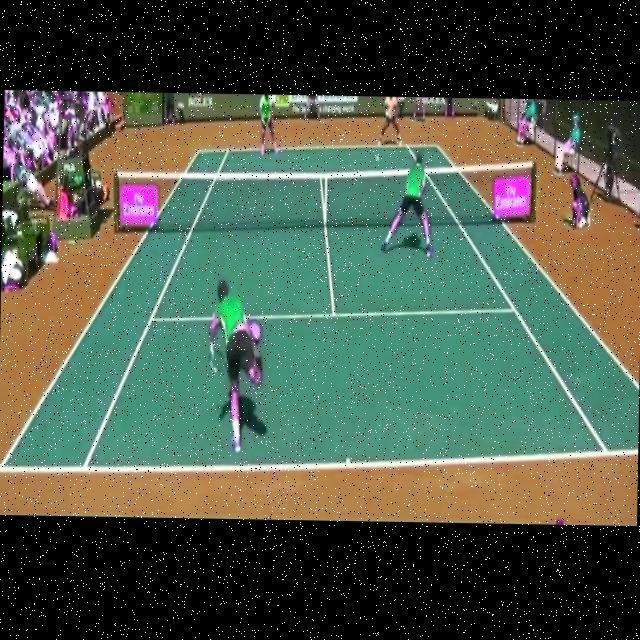court: (0, 136, 640, 486)
net: (114, 152, 538, 236)
player: (207, 278, 264, 452), (380, 150, 437, 260)
